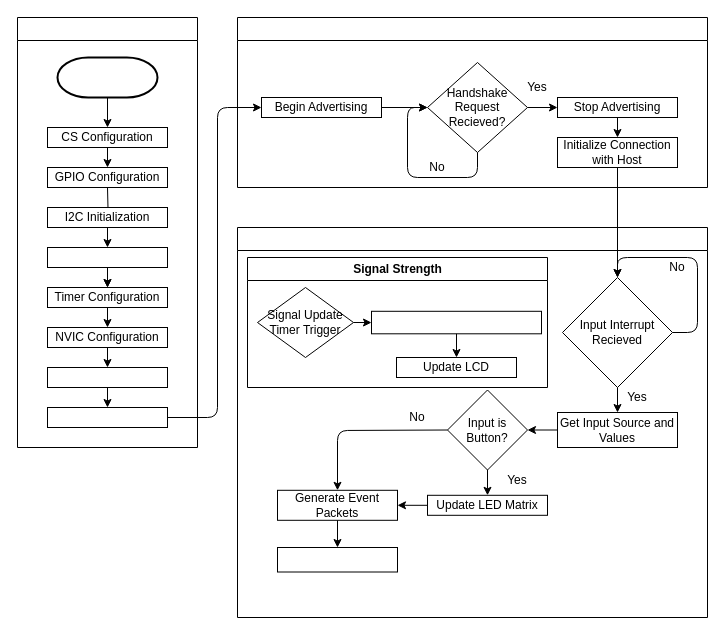
Image size: 725x635. Some labels were removed from this diagram. The shapes that lost their labels are listed below. From the top down, each one's box as (x1, y1, x2, y2) in pixels, then its label:
(56, 56, 158, 98): Start / Reset Vector
(236, 16, 708, 188): Bluetooth Advertising/Connection
(16, 16, 198, 448): Initialization Sequence
(46, 246, 168, 268): ADC Initialization
(370, 310, 542, 334): Determine current device RSSI
(46, 366, 168, 388): Create RTOS Tasks
(46, 406, 168, 428): Start RTOS BIOS
(236, 226, 708, 618): Main Loop
(276, 546, 398, 572): Transmit Data to Host
